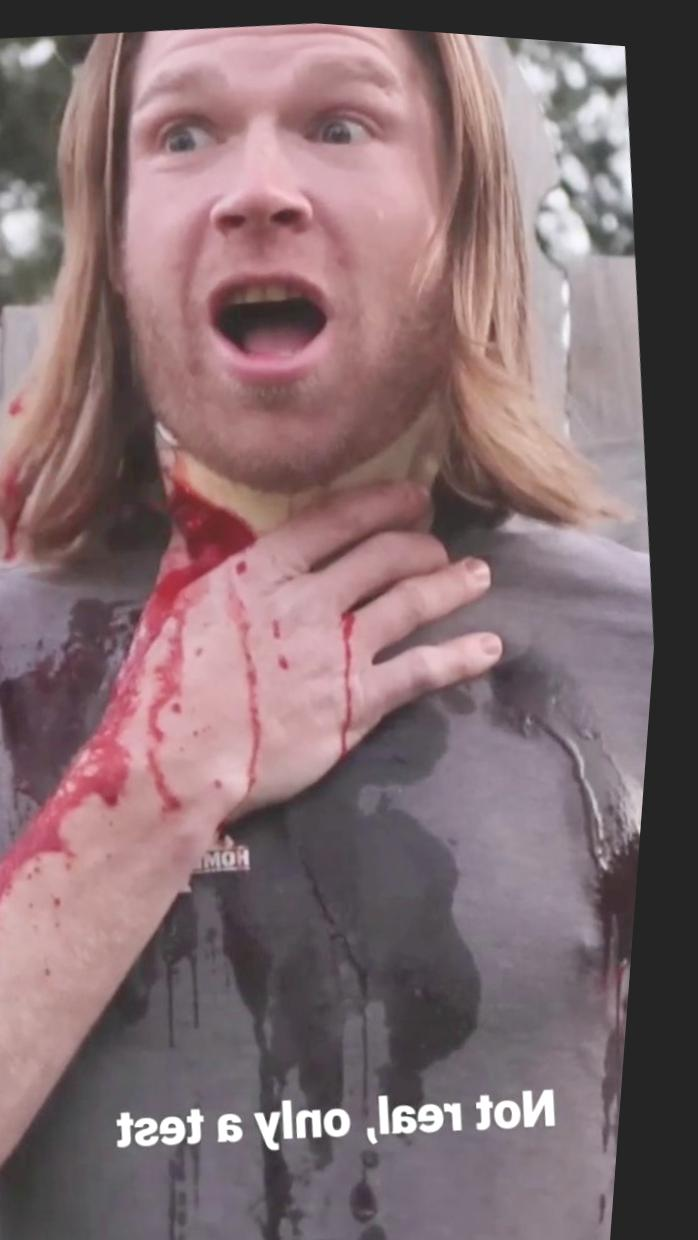Fire: (0, 480, 373, 947), (9, 596, 150, 803)
